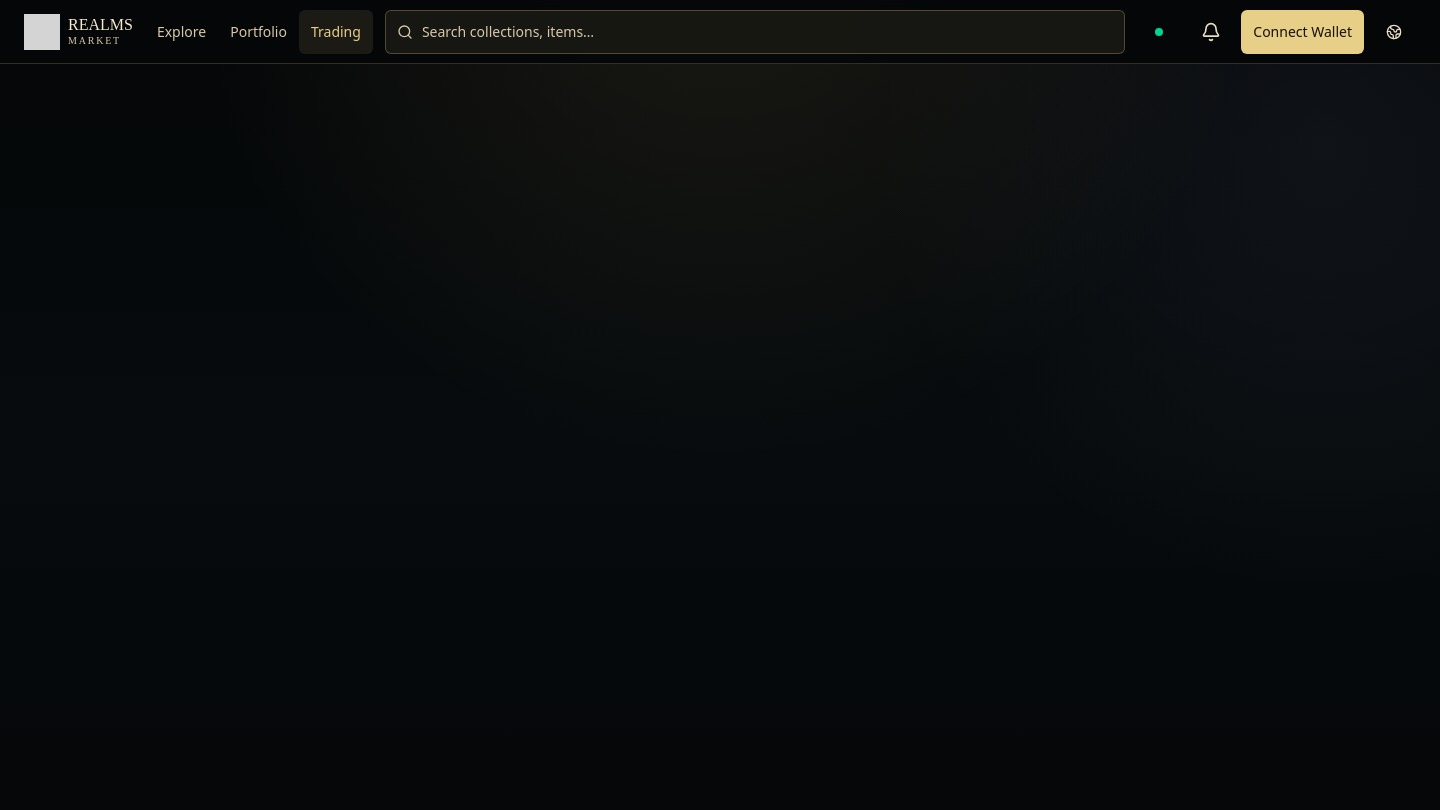
Test: Header › login_opens_wallet_modal_with_all_connectors
Click the button "Connect Wallet".
click(1303, 32)  # box [1241, 10, 1364, 54]
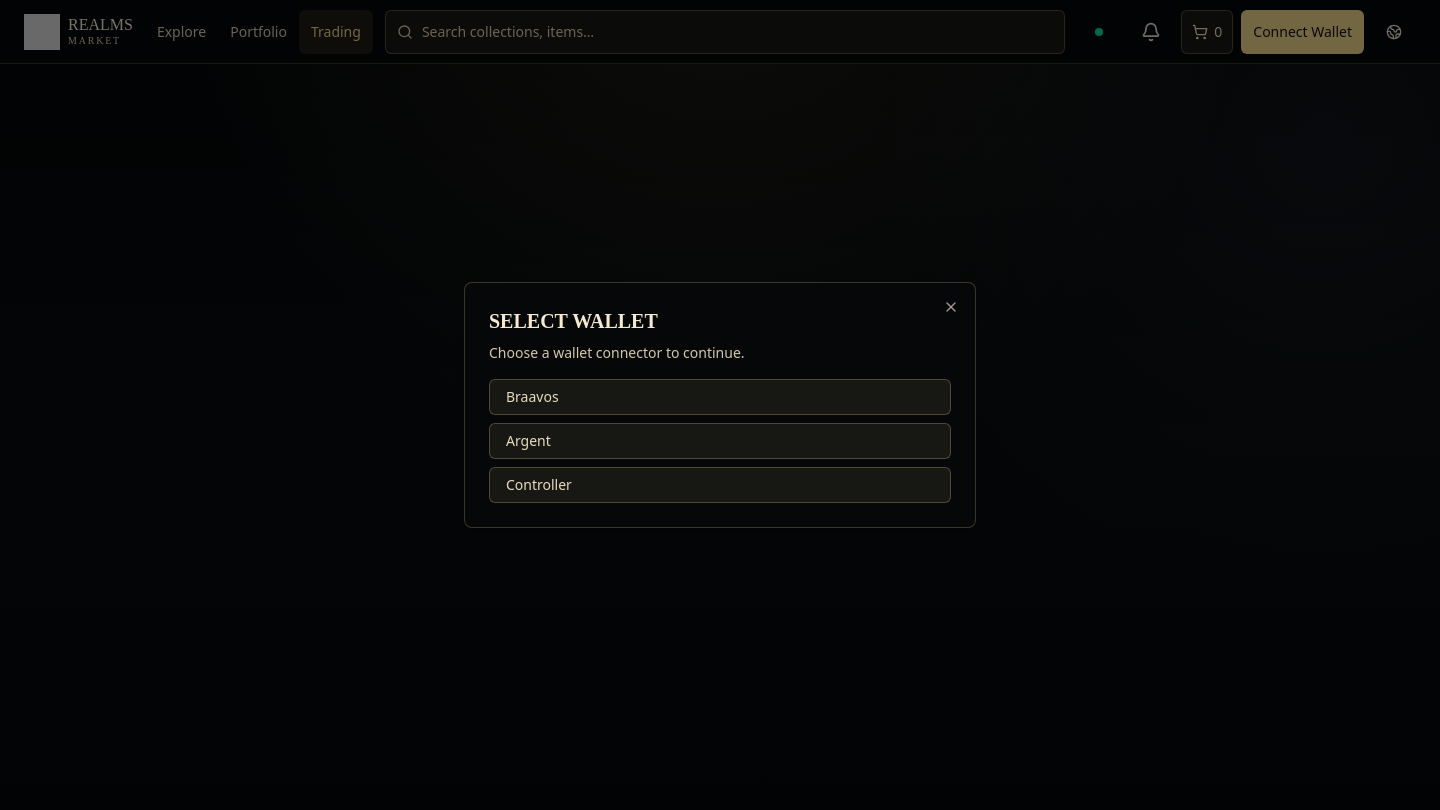
Check: the heading "SELECT WALLET" is shown, box [489, 310, 658, 332]
Check: the button "Braavos" is shown, box [489, 379, 951, 415]
Check: the button "Argent" is shown, box [489, 423, 951, 459]
